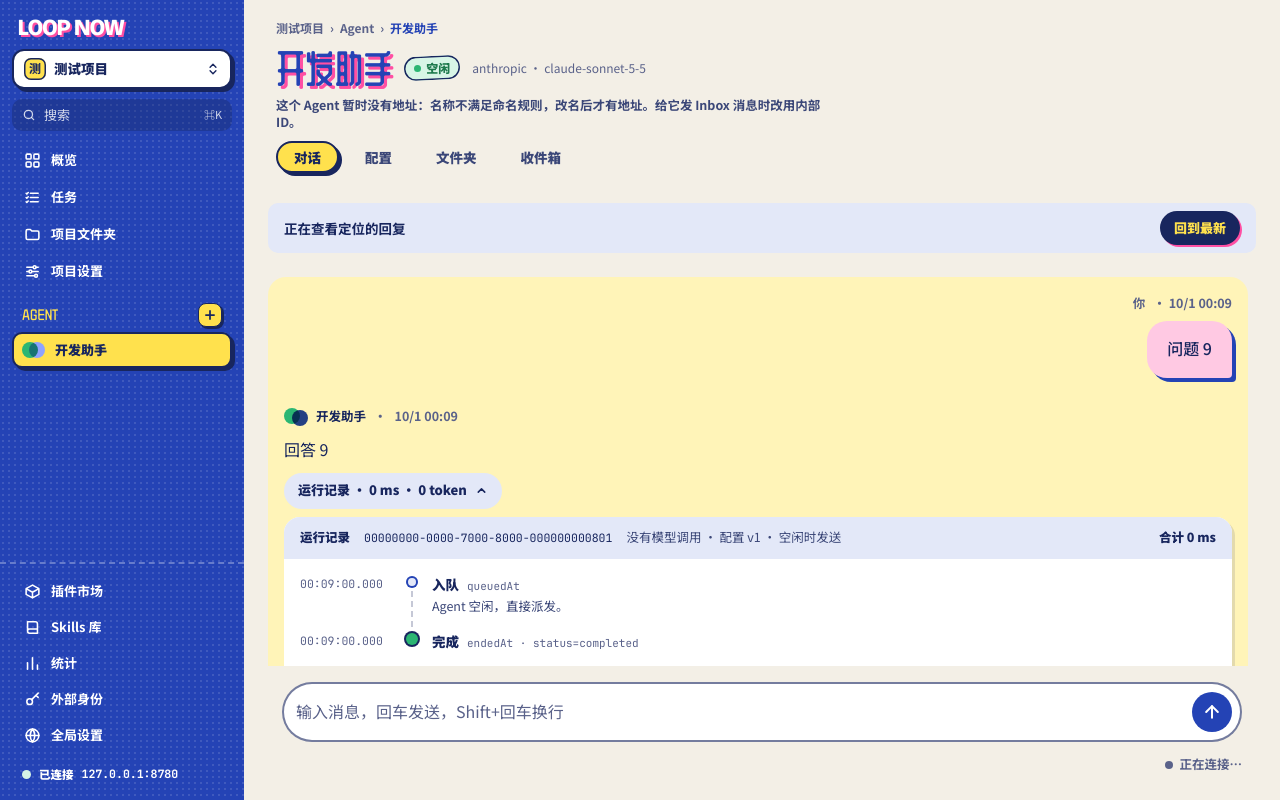
Test: 从概览定位到回复 › 回到最新：显示最新的一页，之后像平常一样
The image size is (1280, 800).
(page scrolled)
Expected: the element named "对话" is shown, [268,253,1256,666]
Expected: the element that starts with "问题 9" is shown, [268,278,1248,666]
Click the button "回到最新". click: (1200, 228)
box: [1160,211,1240,245]
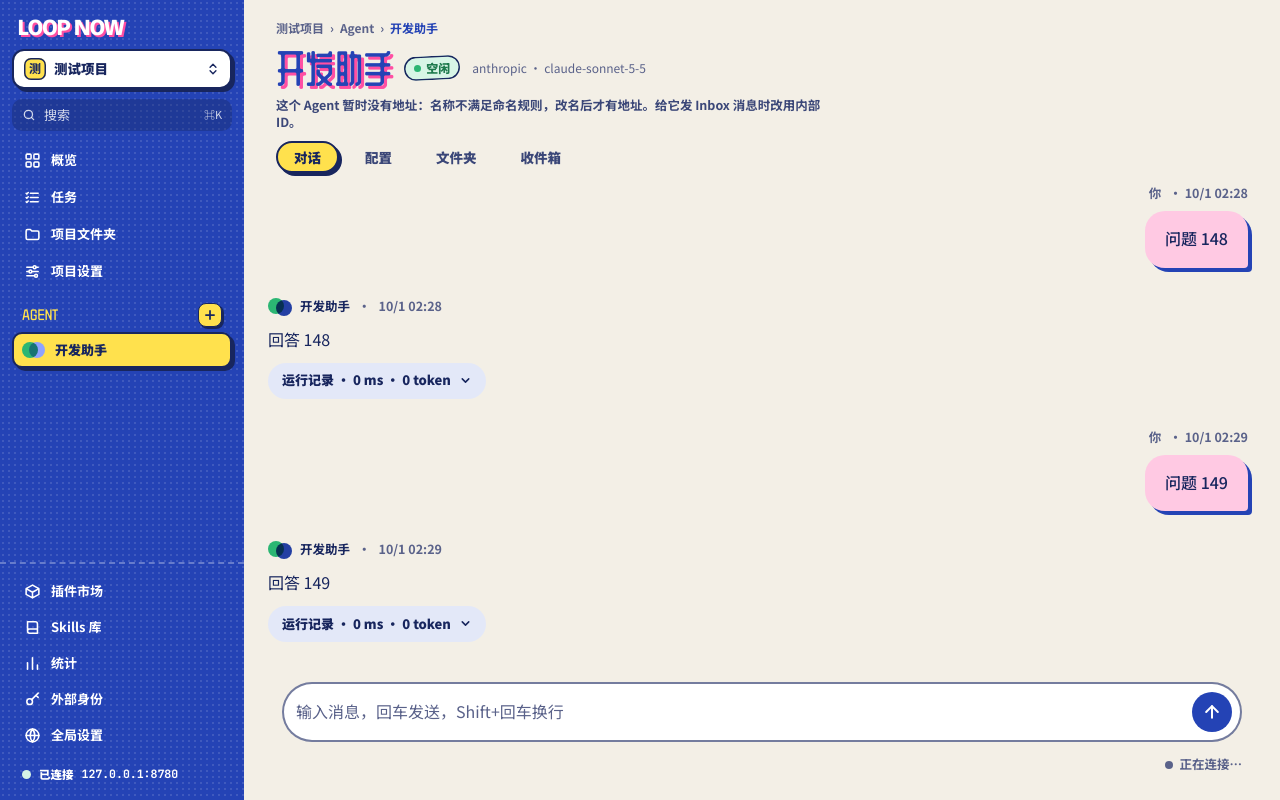
Result: the text "正在查看定位的回复" is gone
